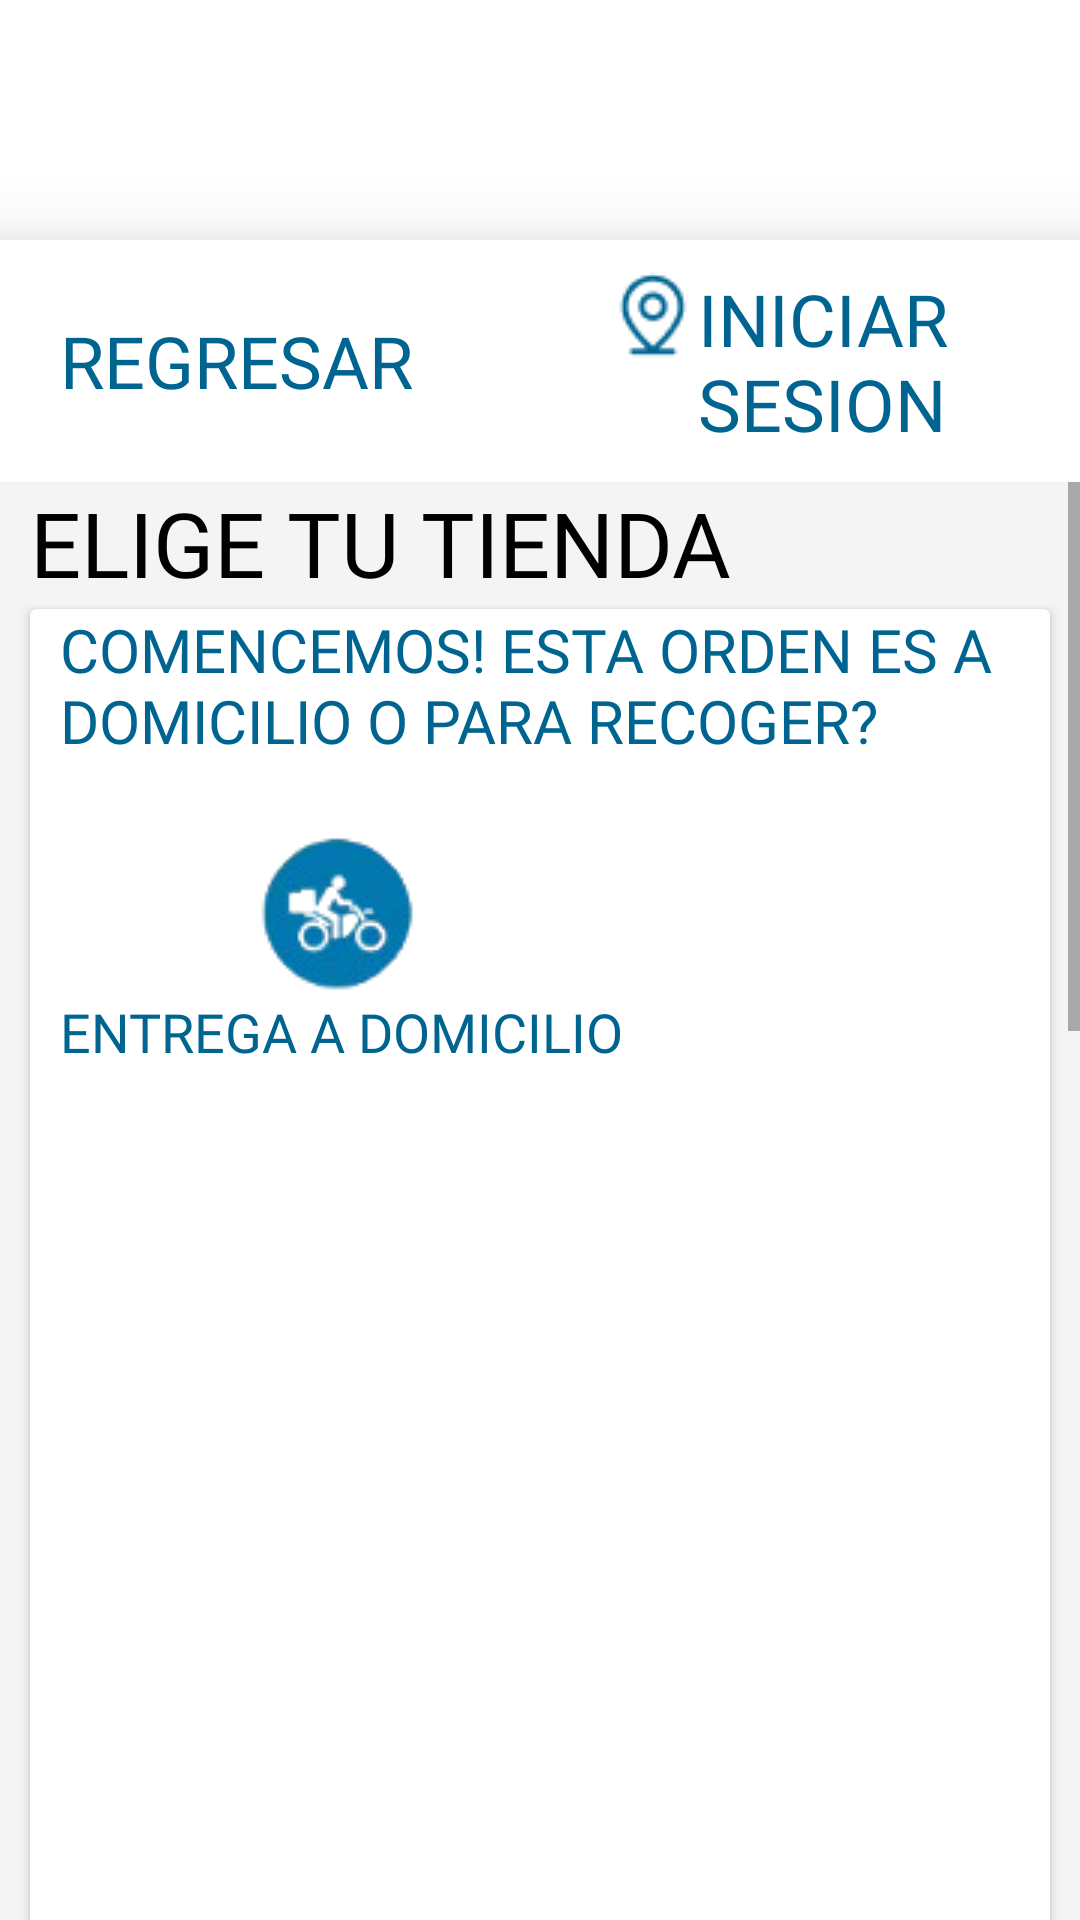

Screen size 1080×1920. Icon name, then its box in pixels as (x1, y1, x2, y2):
location: (620, 274, 686, 356)
